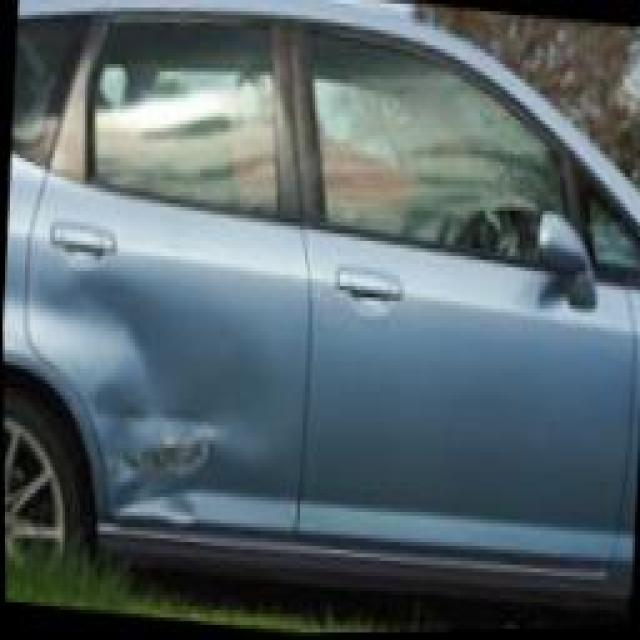Door: (60, 200, 268, 565)
